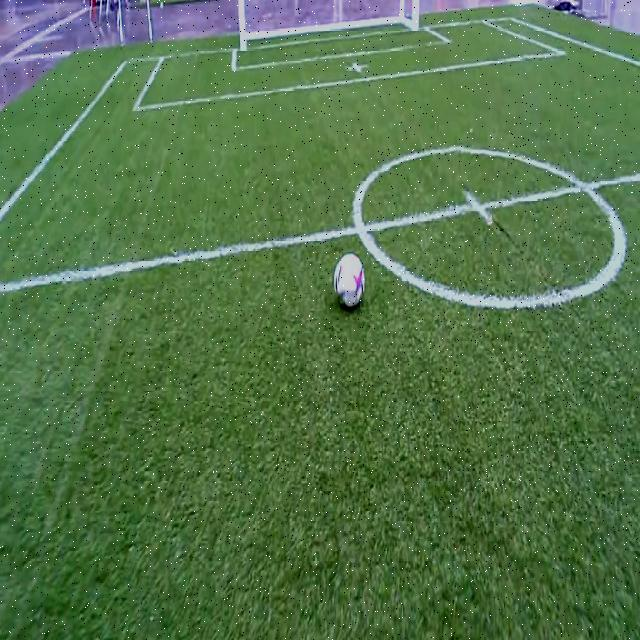ball: (333, 253, 365, 308)
